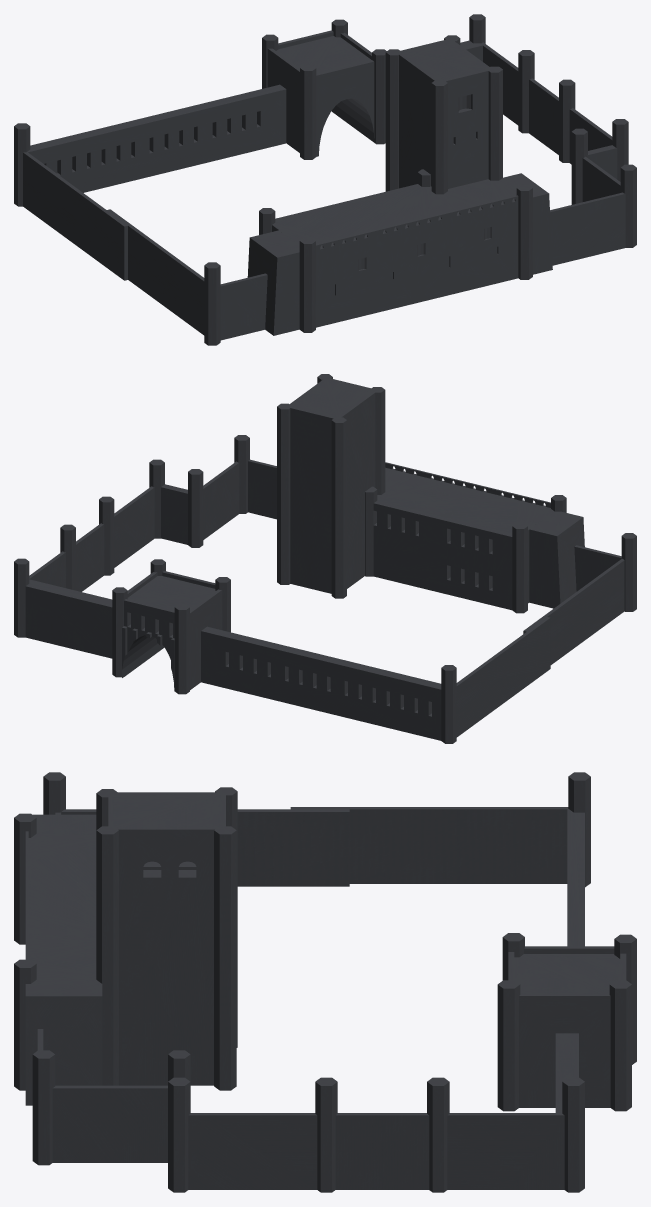
File: wall.glb
3 renders of one model, top to bottom at view 1: azimuth 30°, elevation 25°; view 2: azimuth 150°, elevation 25°; view 3: azimuth 270°, elevation 25°, orthographic. The views are drawn at different scales.
Parts seen in each view (by area): view 1: Castle; view 2: Castle; view 3: Castle.
Part boxes in pixels (x1=…): Castle: x1=14, y1=14, x2=636, y2=345; Castle: x1=14, y1=374, x2=636, y2=743; Castle: x1=14, y1=772, x2=636, y2=1192.
Size of the model in its own units: 126 by 48 by 106.
Materials: 1 (1 with a texture image).
